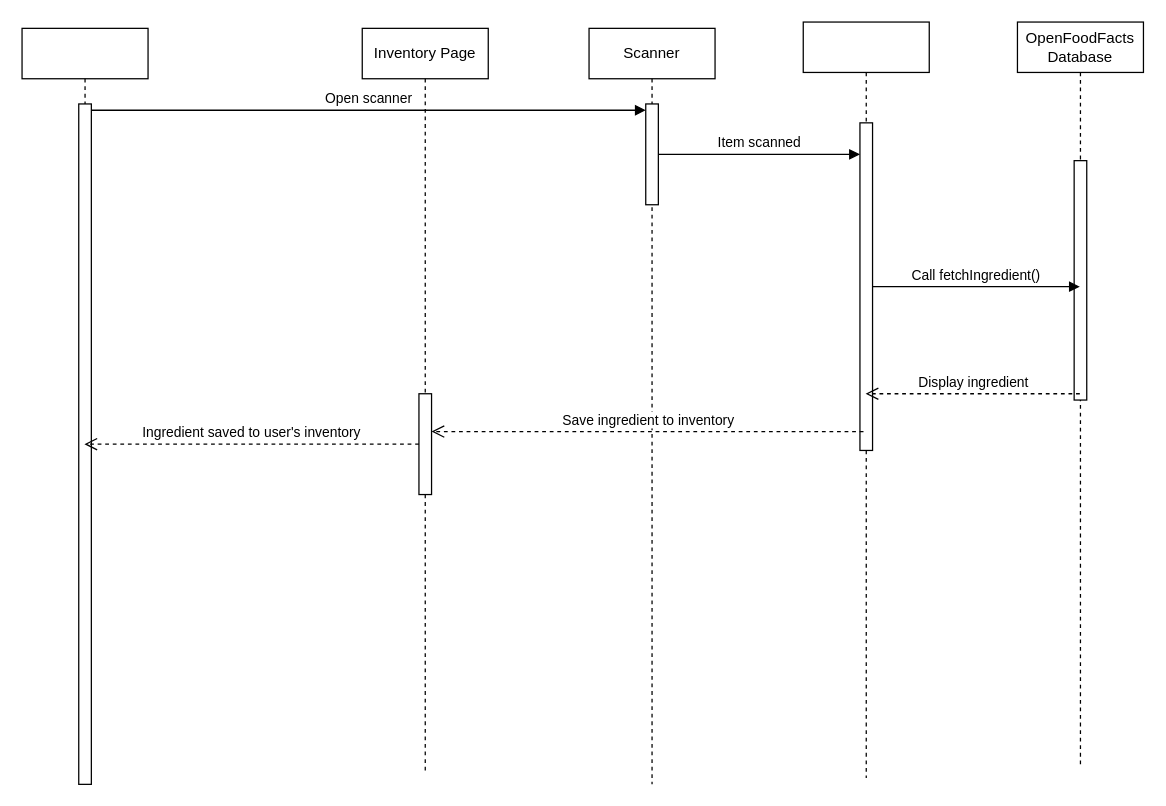
Image size: 1166x806. Some labels were removed from this diagram. Each missing label, with the box of its shape:
Ingredient Page: (802, 21, 929, 778)
User: (21, 27, 148, 784)
